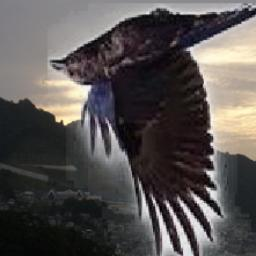Crow: (47, 4, 256, 256)
